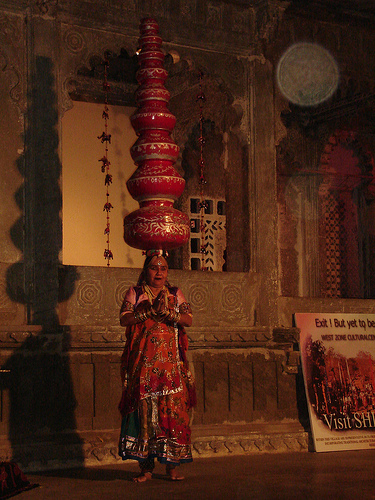without_mask: (144, 256, 170, 290)
